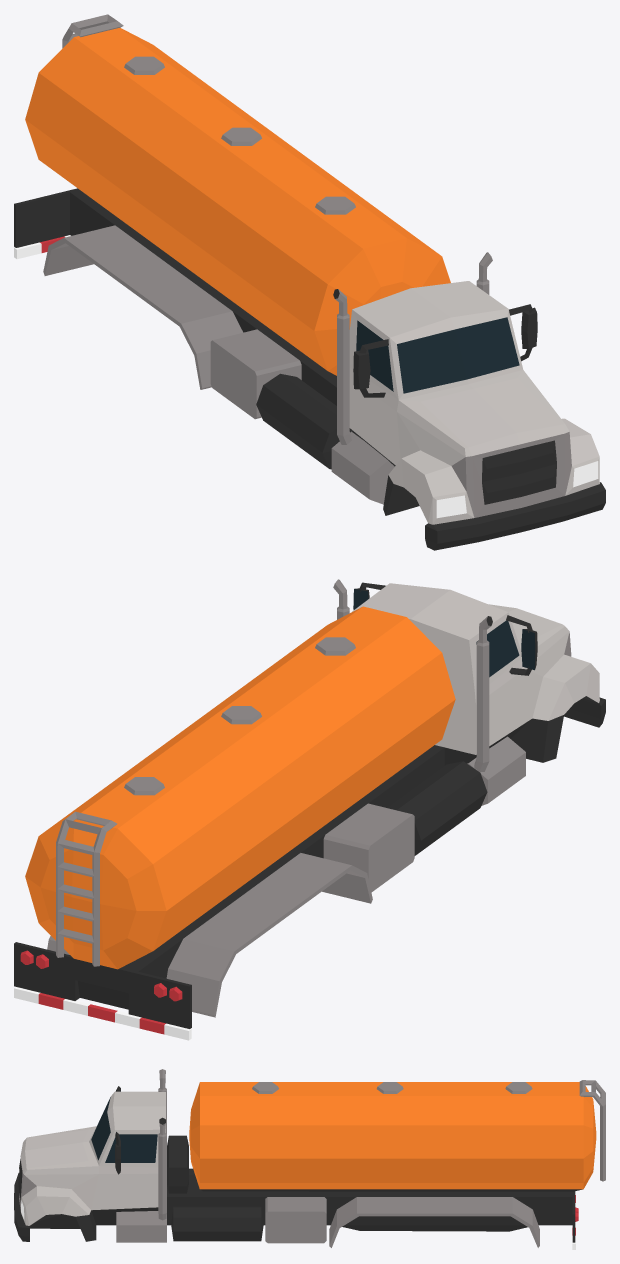
The model's file is car-truck-tanker-base.glb.
3 views of the same model, one above another, from view 1: azimuth 30°, elevation 25°; view 2: azimuth 150°, elevation 25°; view 3: azimuth 270°, elevation 25° (orthographic). The views are drawn at different scales.
Parts seen in each view (by area): view 1: car-truck-tanker-base; view 2: car-truck-tanker-base; view 3: car-truck-tanker-base.
Part boxes in pixels (x1,y1,x2,y2): car-truck-tanker-base: (14, 14, 605, 550); car-truck-tanker-base: (14, 579, 605, 1040); car-truck-tanker-base: (14, 1069, 605, 1249).
Size of the model in its own units: 2.57 by 2.83 by 10.9.
1 material, 1 textured.
